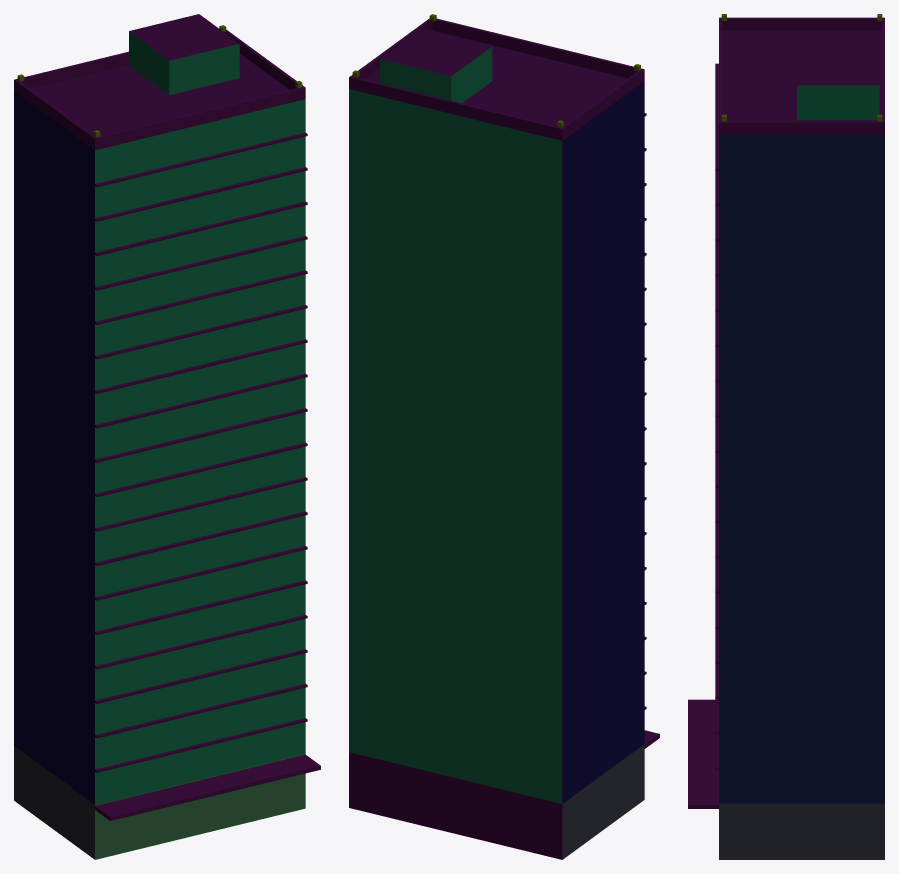
Rendered from slab_i.lod2.glb.
3 views of the same model, side by side, from view 1: azimuth 30°, elevation 25°; view 2: azimuth 150°, elevation 25°; view 3: azimuth 270°, elevation 25° (orthographic). The views are drawn at different scales.
Parts seen in each view (by area): view 1: slab_i.lod2; view 2: slab_i.lod2; view 3: slab_i.lod2.
Boxes of the visible parts, left/top/right/bottom form: slab_i.lod2: left=14, top=14, right=320, bottom=859; slab_i.lod2: left=349, top=14, right=659, bottom=859; slab_i.lod2: left=688, top=14, right=884, bottom=859.
Bounding box in the file's own units: 19.2 × 64.8 × 15.2.
